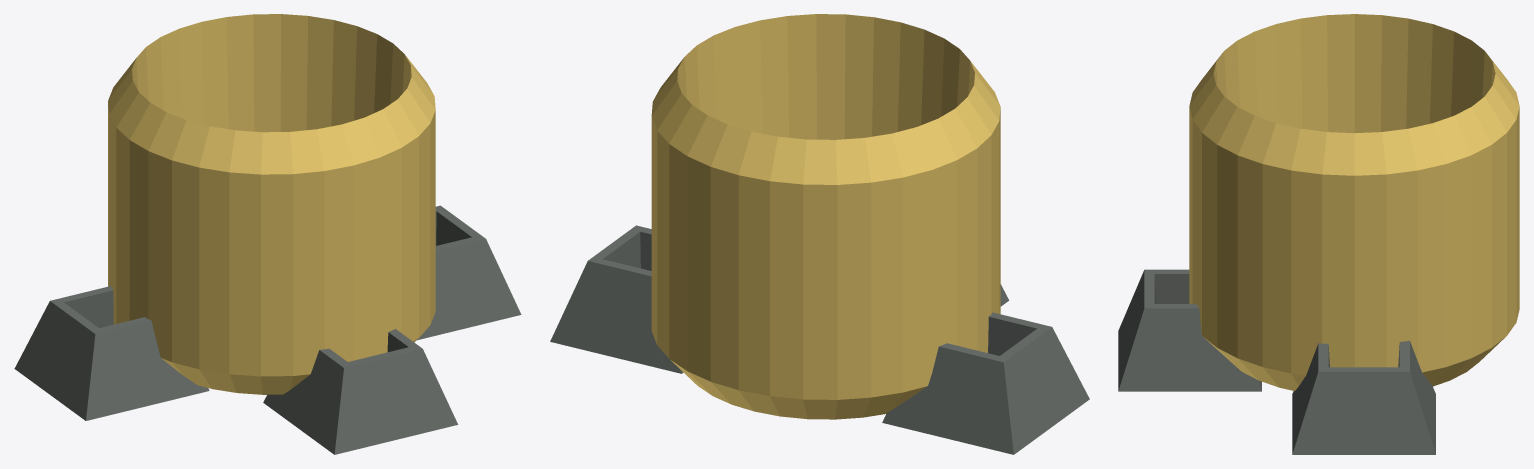
Rendered from Gold storage.fbx.
3 views of the same model, side by side, from view 1: azimuth 30°, elevation 25°; view 2: azimuth 150°, elevation 25°; view 3: azimuth 270°, elevation 25° (orthographic). The views are drawn at different scales.
Parts seen in each view (by area): view 1: Gold storage; view 2: Gold storage; view 3: Gold storage.
Part boxes in pixels (box(x1,y1,x2,y2)): Gold storage: box(14, 14, 521, 454); Gold storage: box(550, 14, 1089, 454); Gold storage: box(1118, 14, 1519, 454).
Bounding box in the file's own units: 258 × 160 × 205.
